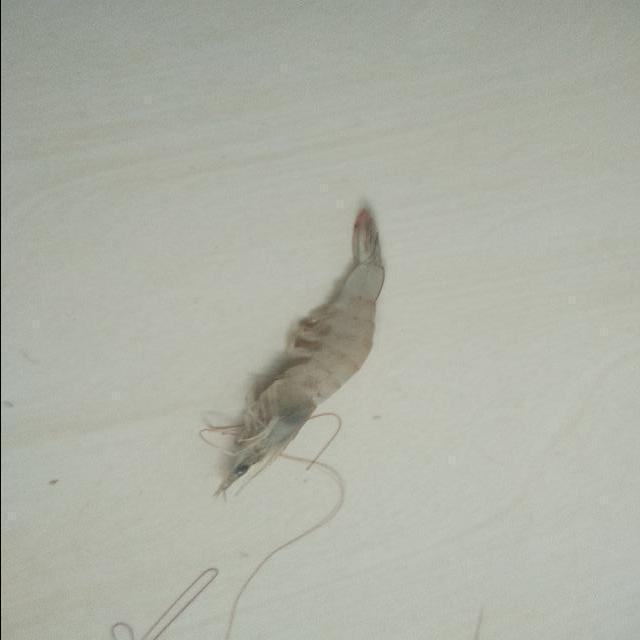shrimp: (210, 210, 384, 497)
